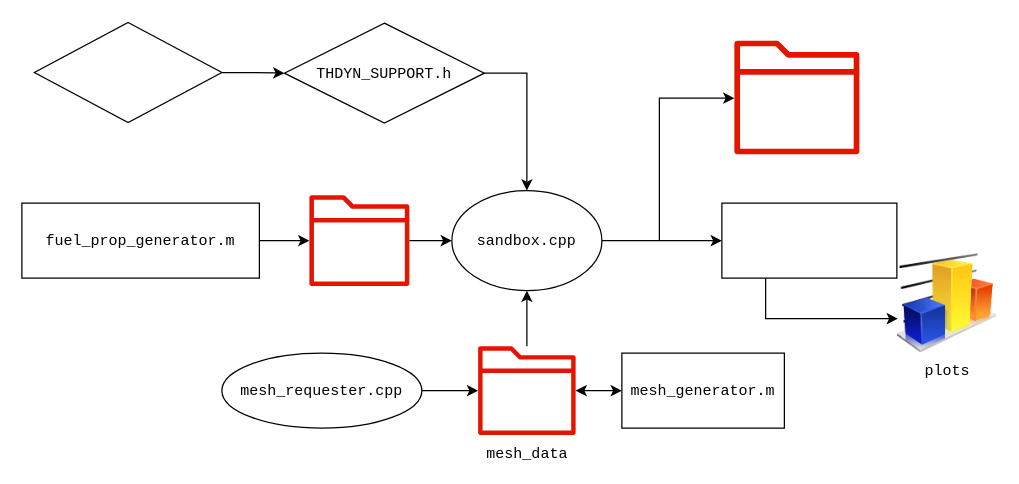
The diagram is 1019 pixels wide and 484 high, and some of its shapes have lost their labels. Each missing label, with the centre of its shape:
propellant data: the point at 358,240
sandbox_support.m: the point at 809,240
saved data: the point at 796,96
SOLID_PROP2.h: the point at 127,71
